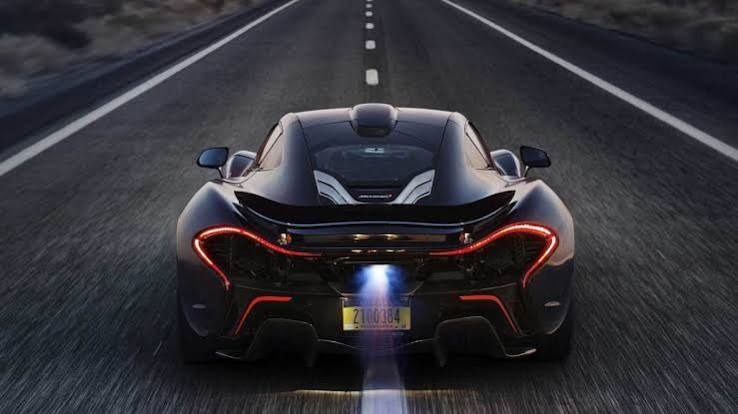car: (167, 102, 586, 376), (165, 106, 585, 377)
